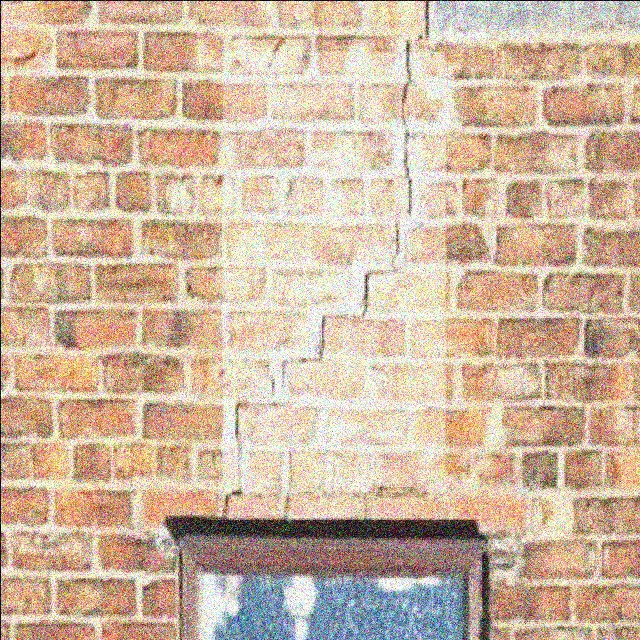SurfaceCrack: (238, 28, 460, 480)
